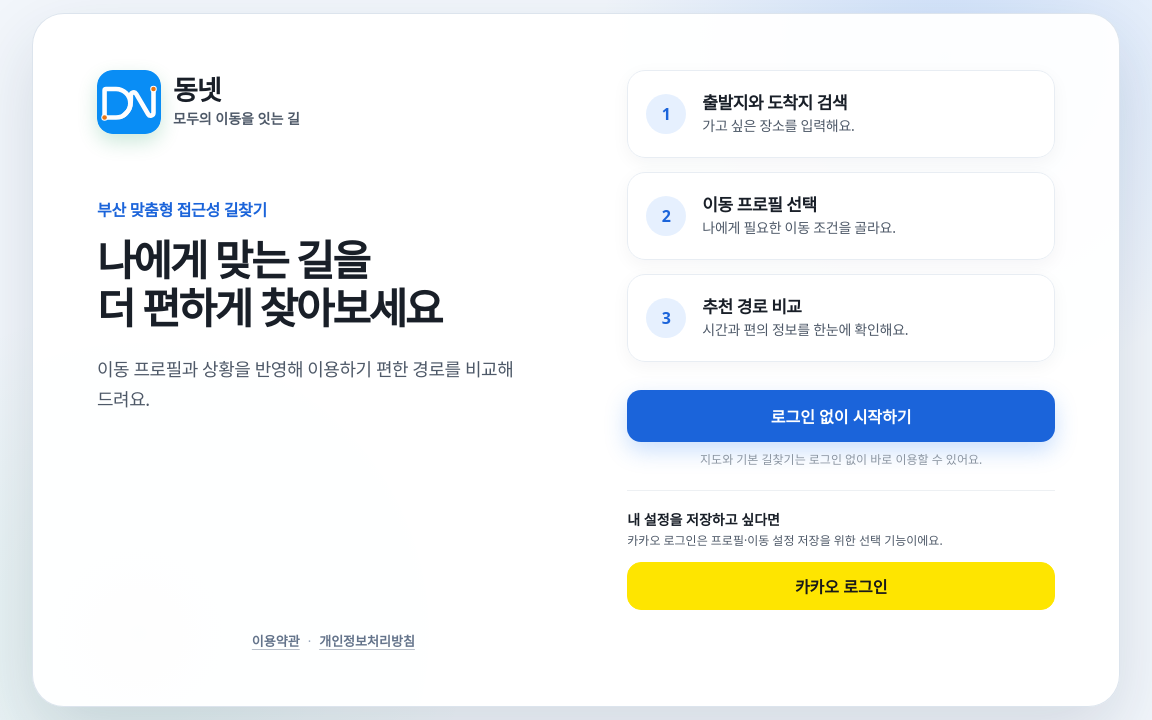
Test case: MOB-18 앱 진입 계약 › 첫 방문에서는 시작 화면을 먼저 보여주고 완료 상태를 저장한다
Expected: the text "지도 홈" is not shown
Click the button "로그인 없이 시작하기": (841, 416) [627, 390, 1055, 442]
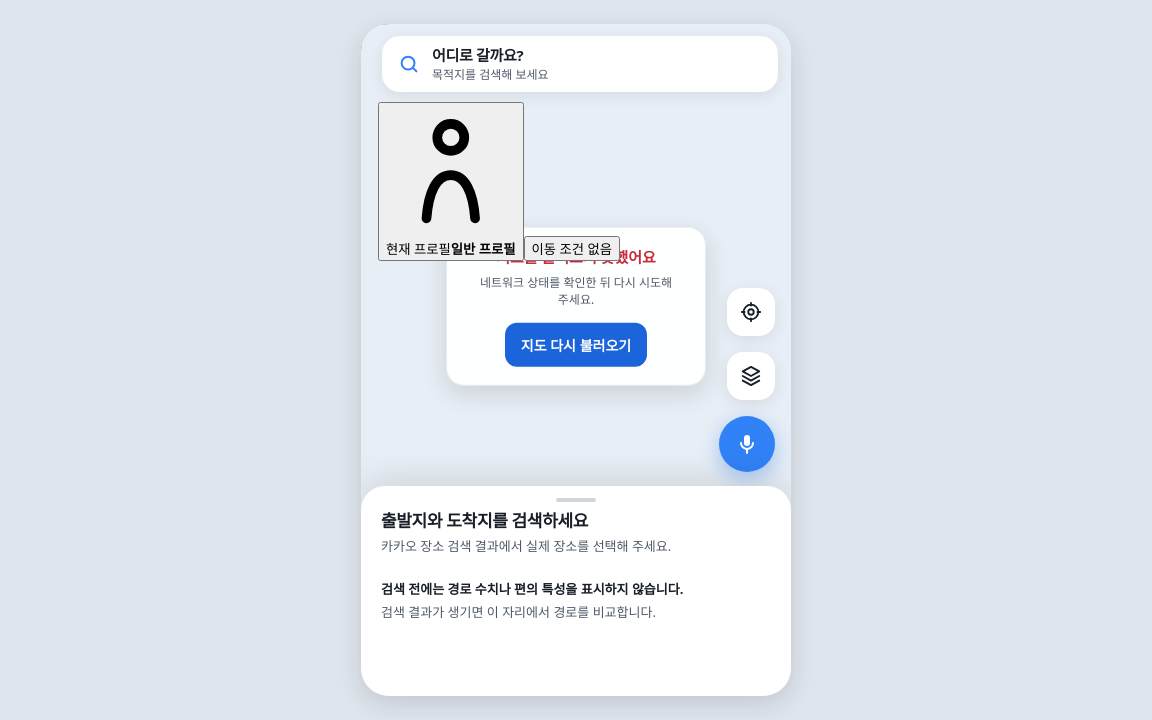
Now the text "지도 홈" is shown, box [369, 72, 409, 90]
